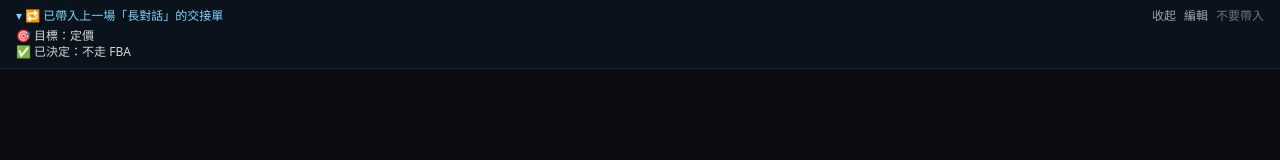
Scenario: HandoffCard › doc 來源：完整顯示、可編輯並送出
Expected: the text "🎯 目標：定價 ✅ 已決定：不走 FBA" is shown, top-left (16, 27), bottom-right (131, 60)
Expected: the button "交接單" is shown, top-left (16, 8), bottom-right (223, 24)
Click the button "編輯" at (1196, 16), box top-left (1184, 8), bottom-right (1208, 24)
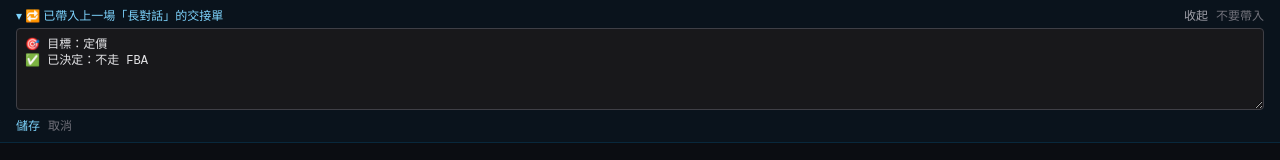
Replace the text in the text box with "🎯 目標：改過" at (640, 69), box top-left (16, 28), bottom-right (1264, 110)
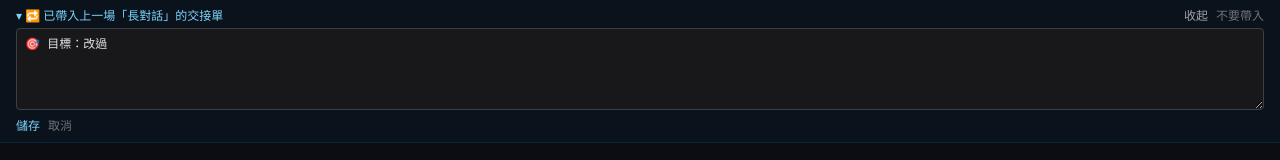
Click the button "儲存" at (28, 126), box top-left (16, 118), bottom-right (40, 134)
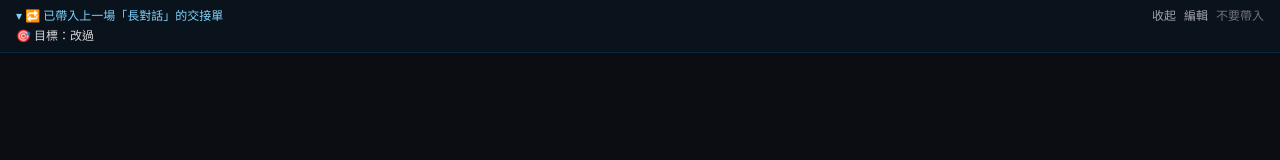
Result: the text "🎯 目標：改過" is shown at top-left (16, 27), bottom-right (94, 44)
